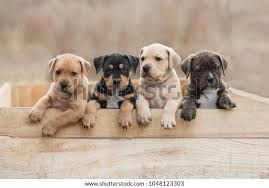dog: (82, 37, 150, 140), (27, 40, 93, 138), (135, 35, 187, 134), (183, 43, 241, 129)
